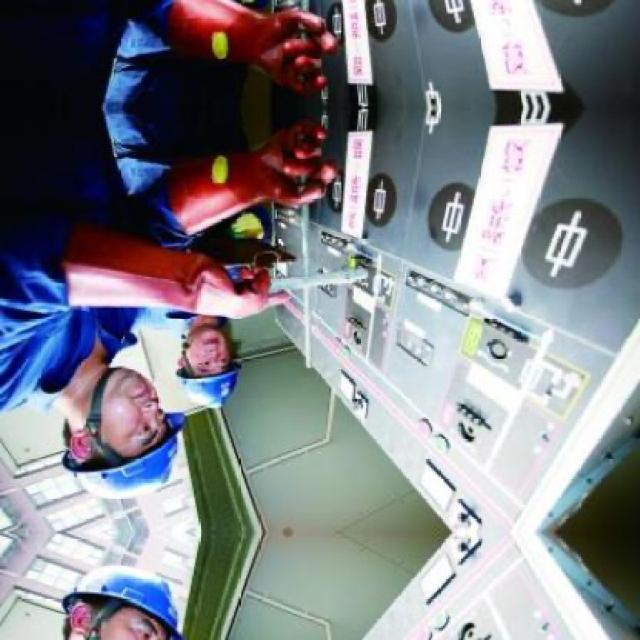con casco: (58, 331, 158, 505), (162, 334, 240, 426)
